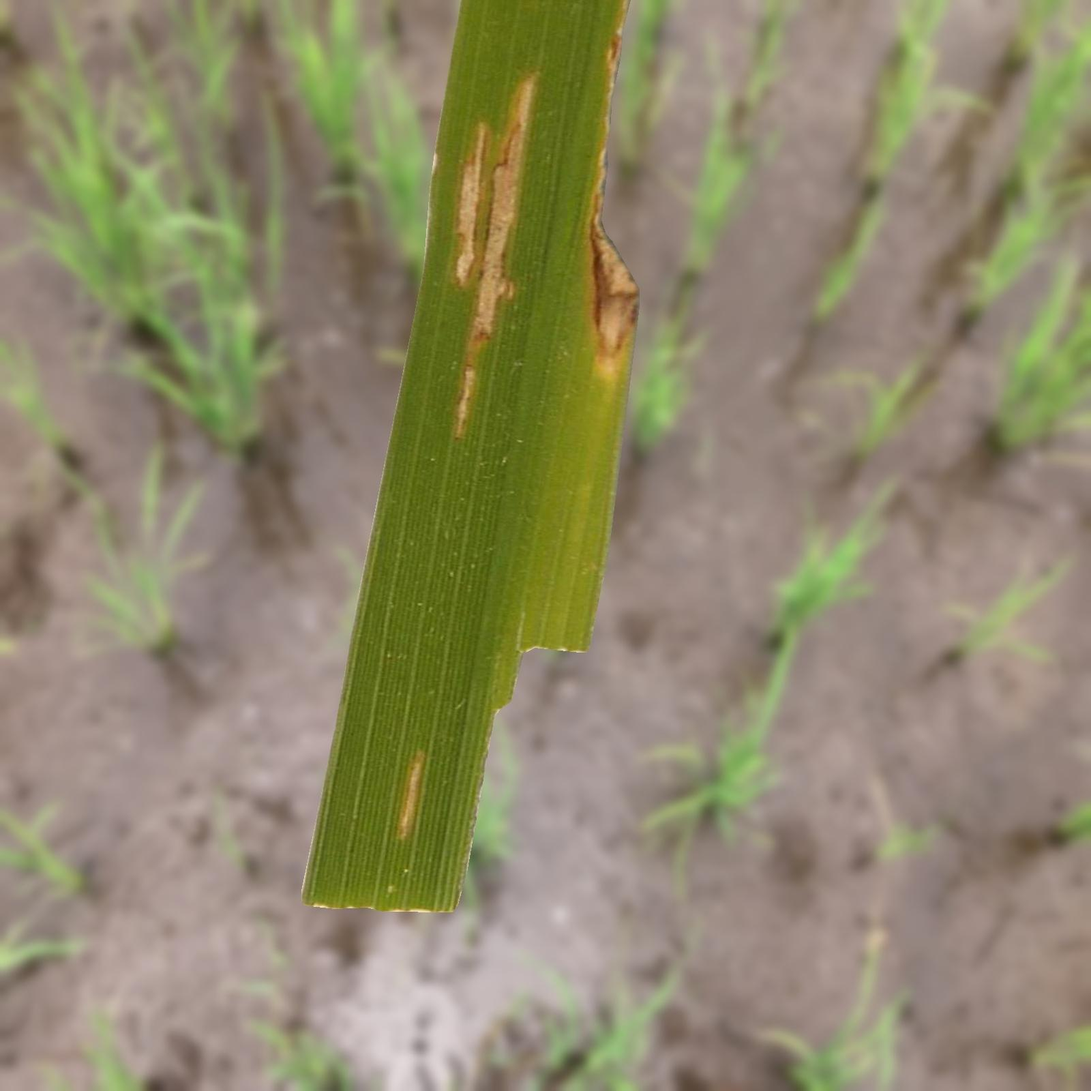BLS: (470, 76, 535, 346), (455, 123, 488, 286), (396, 751, 425, 839), (455, 353, 474, 437)
LEAF: (301, 0, 639, 912)
